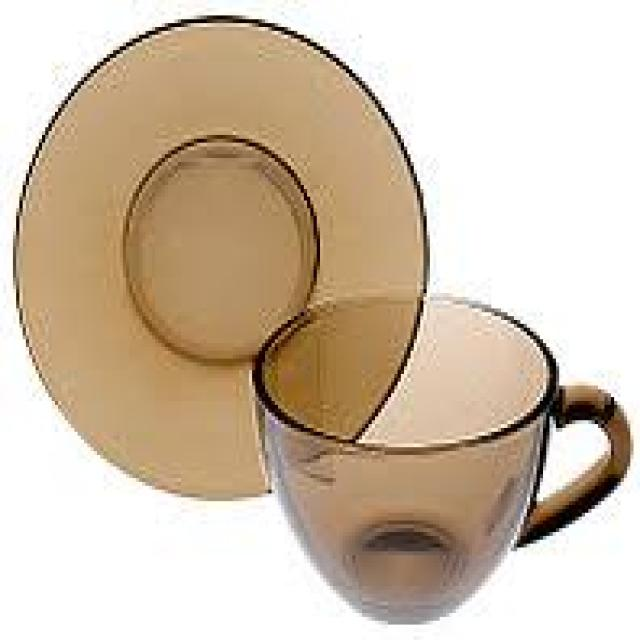glass: (13, 12, 427, 501), (249, 285, 630, 625)
